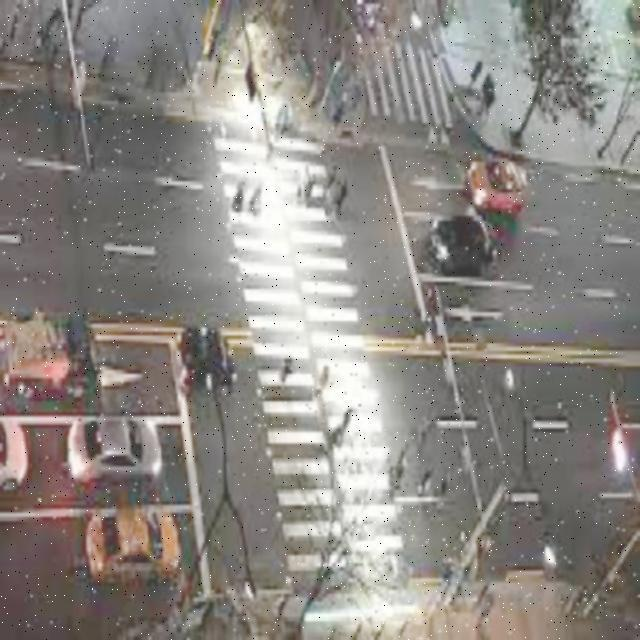Pedestrian crosswalk: (208, 112, 414, 606), (345, 31, 467, 151)
